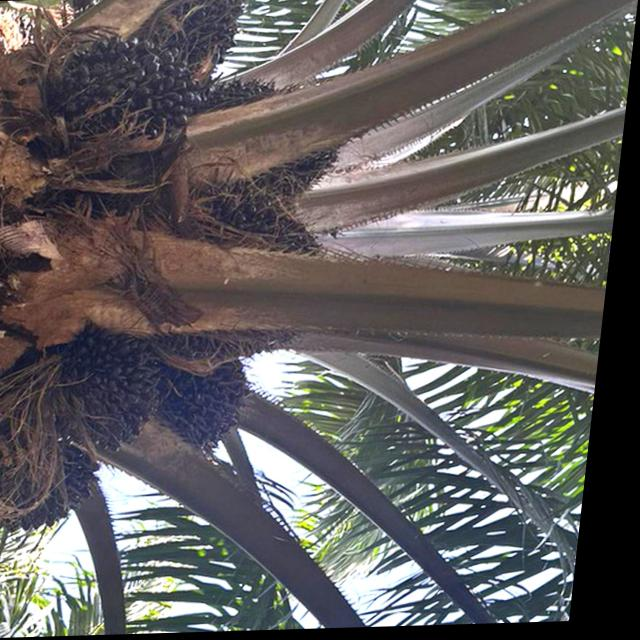unripe: (151, 179, 342, 375), (157, 343, 269, 461)
